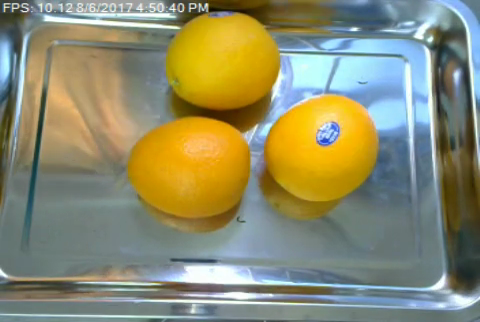Orange: (127, 116, 249, 218), (265, 93, 378, 199), (164, 11, 281, 109)
